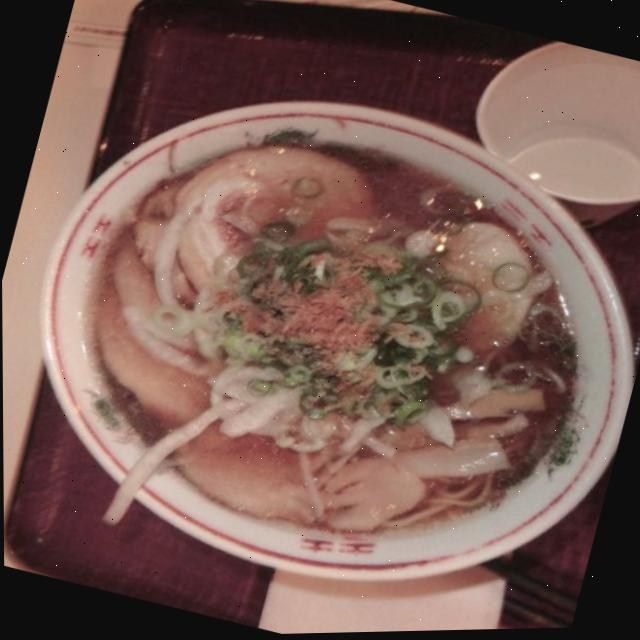面条主食: (0, 33, 640, 640)
